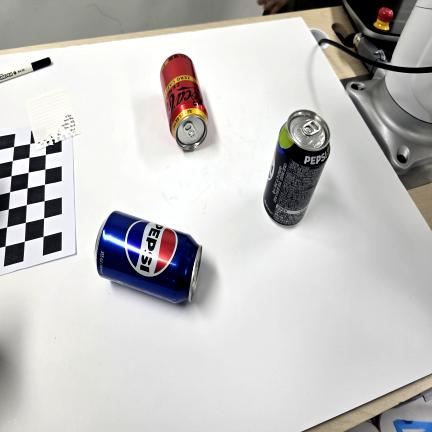can_coke_decaf: (160, 53, 209, 150)
can_coke_zero: (263, 109, 331, 227)
can_pepsi: (94, 210, 202, 304)
